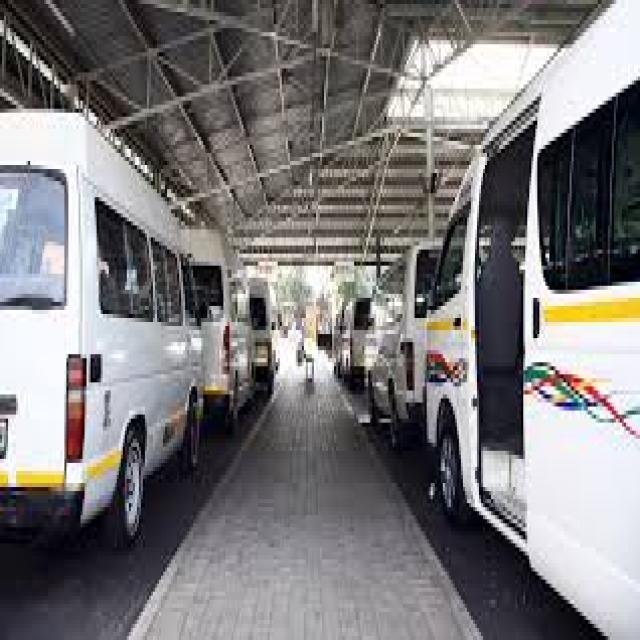MiniBus taxi: (429, 24, 638, 636), (2, 104, 205, 552), (360, 221, 447, 451), (175, 209, 260, 435)
